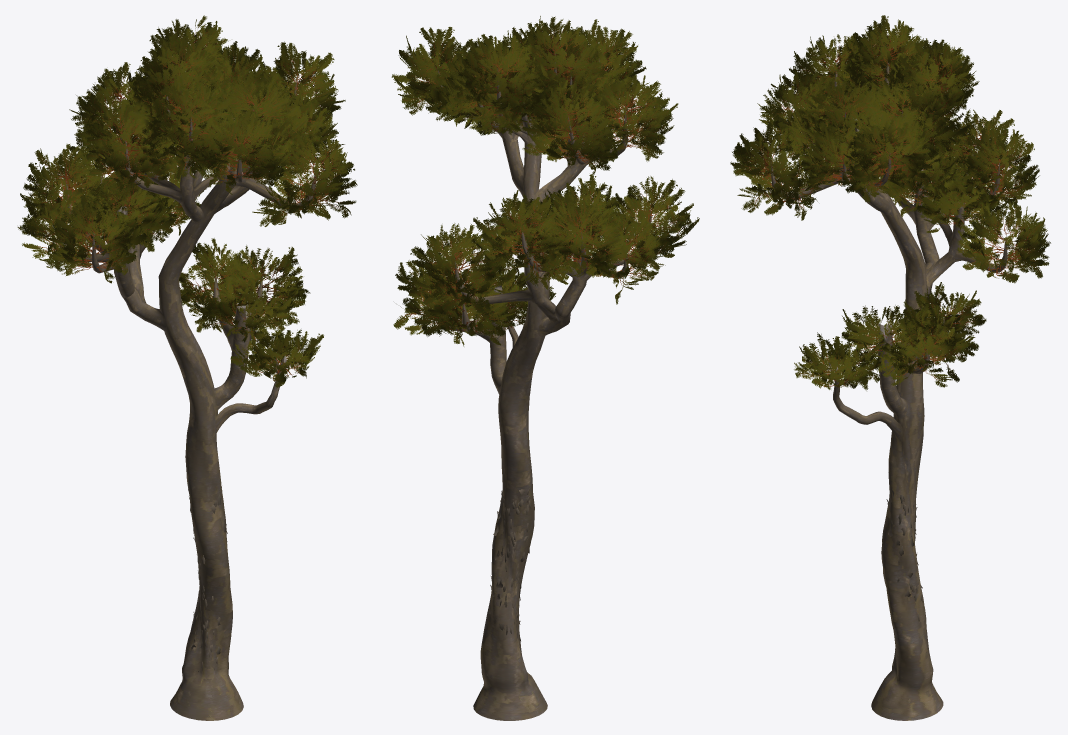
3 renders of one model, left to right at view 1: azimuth 30°, elevation 25°; view 2: azimuth 150°, elevation 25°; view 3: azimuth 270°, elevation 25°, orthographic. The views are drawn at different scales.
Visible parts, largest first — view 1: SM_Yew_02_LOD0; view 2: SM_Yew_02_LOD0; view 3: SM_Yew_02_LOD0.
Part boxes in pixels (x1,y1,x2,y2): SM_Yew_02_LOD0: (17,15,357,720); SM_Yew_02_LOD0: (391,16,699,720); SM_Yew_02_LOD0: (730,15,1050,720).
Bounding box in the file's own units: 8.56 × 19.04 × 8.37.
2 materials, 2 textured.
